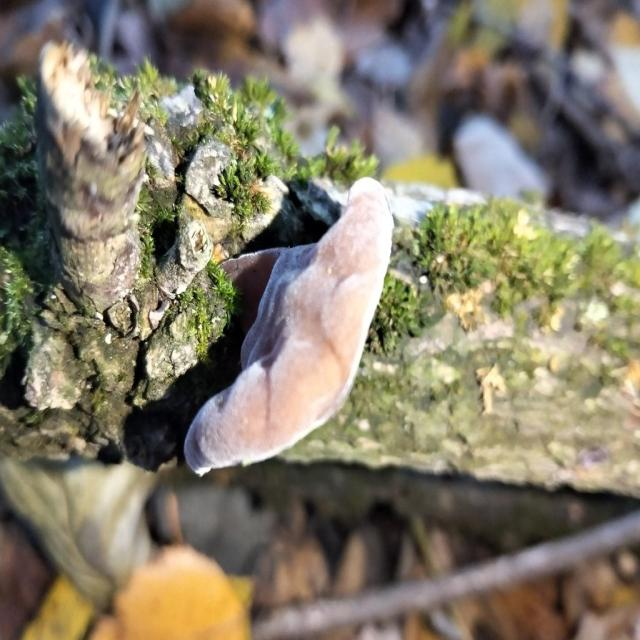Matang: (183, 158, 413, 516)
